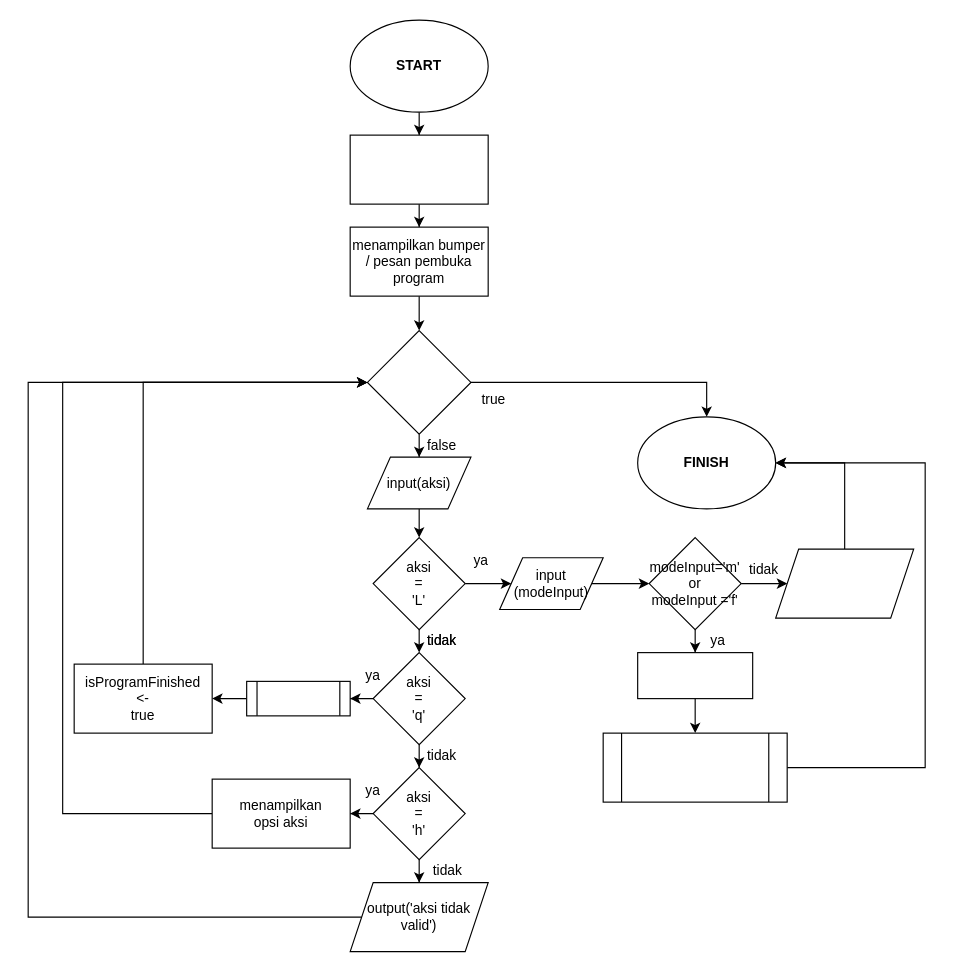
This 955x972 diagram has some shape labels left out. Each missing label, with the centre of its shape:
"closing()" goes at (x=298, y=698).
"counter++" goes at (x=695, y=675).
"inisiasi variabel isProgramFinished, aksi, modeInput, counter" goes at (x=418, y=169).
"isProgramFinished ?" goes at (x=418, y=381).
"logicMinimization (modeInput, counter)" goes at (x=694, y=767).
"output('mode tidak valid')" goes at (x=844, y=583).
